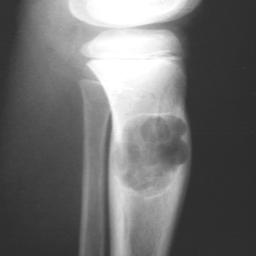cancer: (114, 114, 191, 198)
